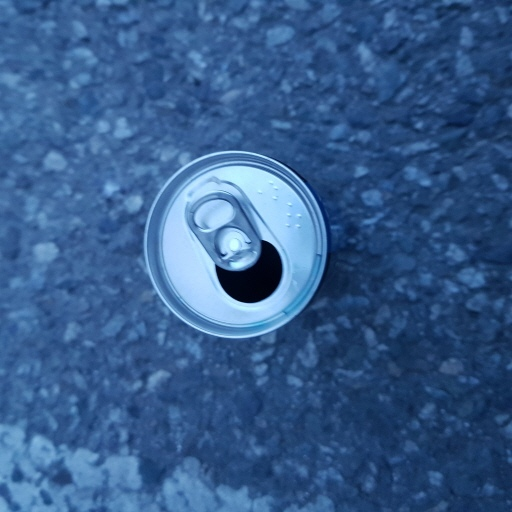Metal_0: (139, 149, 334, 345)
